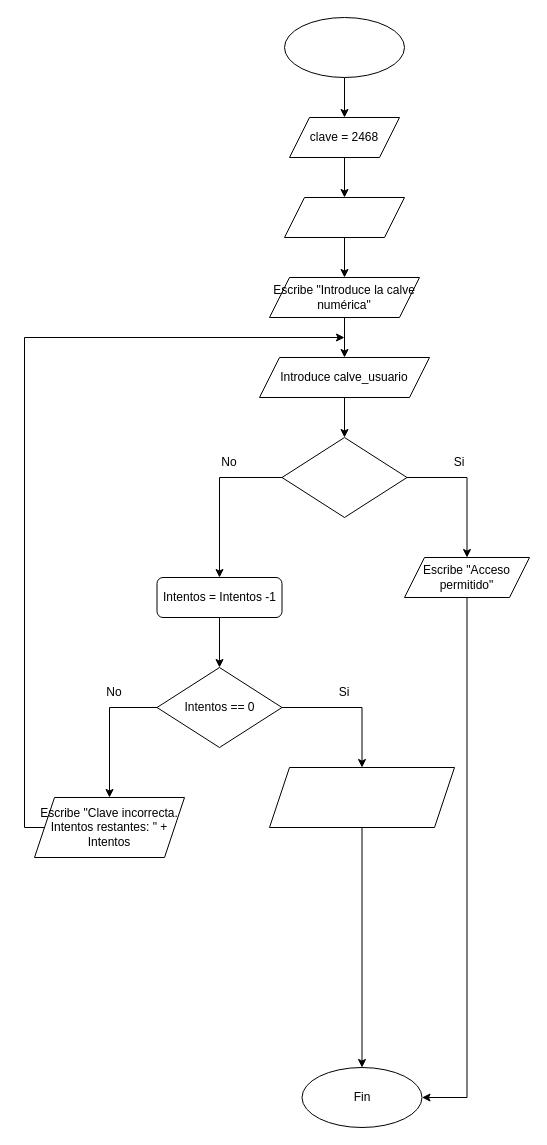
The diagram is 547 pixels wide and 1145 high, and some of its shapes have lost their labels. Each missing label, with the box of its shape:
calve == clave_usuario: (281, 436, 407, 518)
Escribe "Acceso denegado, no tienes más intentos.": (268, 766, 454, 828)
Inicio: (284, 16, 404, 78)
Intentos = 3: (284, 196, 404, 238)
